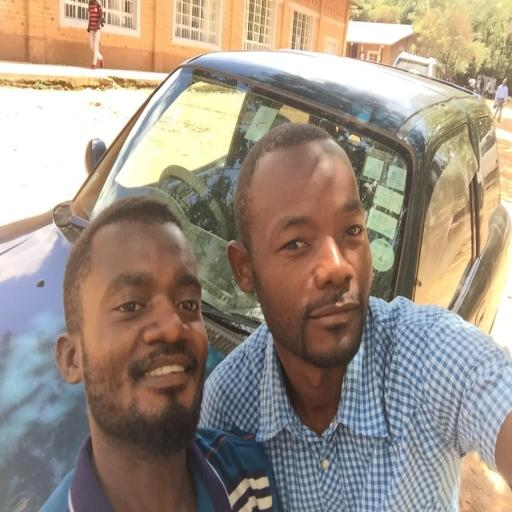MATTHIEU: (62, 195, 216, 454)
